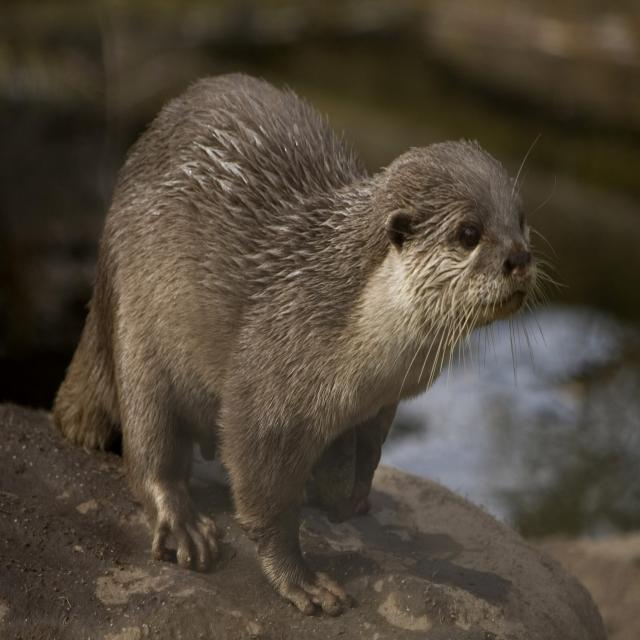otter: (58, 72, 535, 616)
